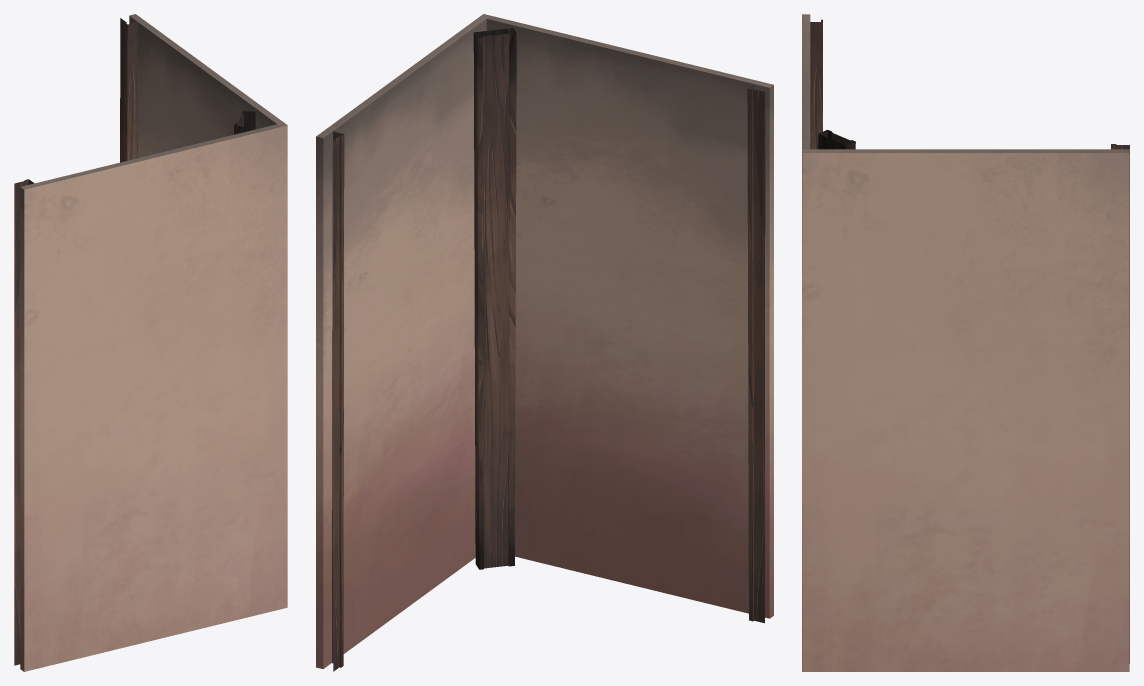
File: Wall_Mid_InnerCorner_V1.fbx
3 views of the same model, side by side, from view 1: azimuth 30°, elevation 25°; view 2: azimuth 150°, elevation 25°; view 3: azimuth 270°, elevation 25° (orthographic). The views are drawn at different scales.
Parts seen in each view (by area): view 1: Inner_Corner_Wall_Mid; view 2: Inner_Corner_Wall_Mid; view 3: Inner_Corner_Wall_Mid.
Part boxes in pixels (bbox=[...]): Inner_Corner_Wall_Mid: bbox=[14, 14, 287, 671]; Inner_Corner_Wall_Mid: bbox=[316, 14, 773, 671]; Inner_Corner_Wall_Mid: bbox=[802, 14, 1129, 671].
Size of the model in its own units: 0.0241 by 0.0421 by 0.024.
